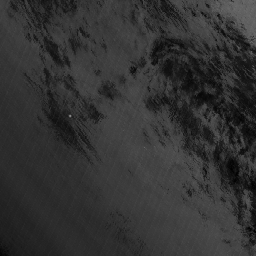Target: (67, 113, 73, 118)
